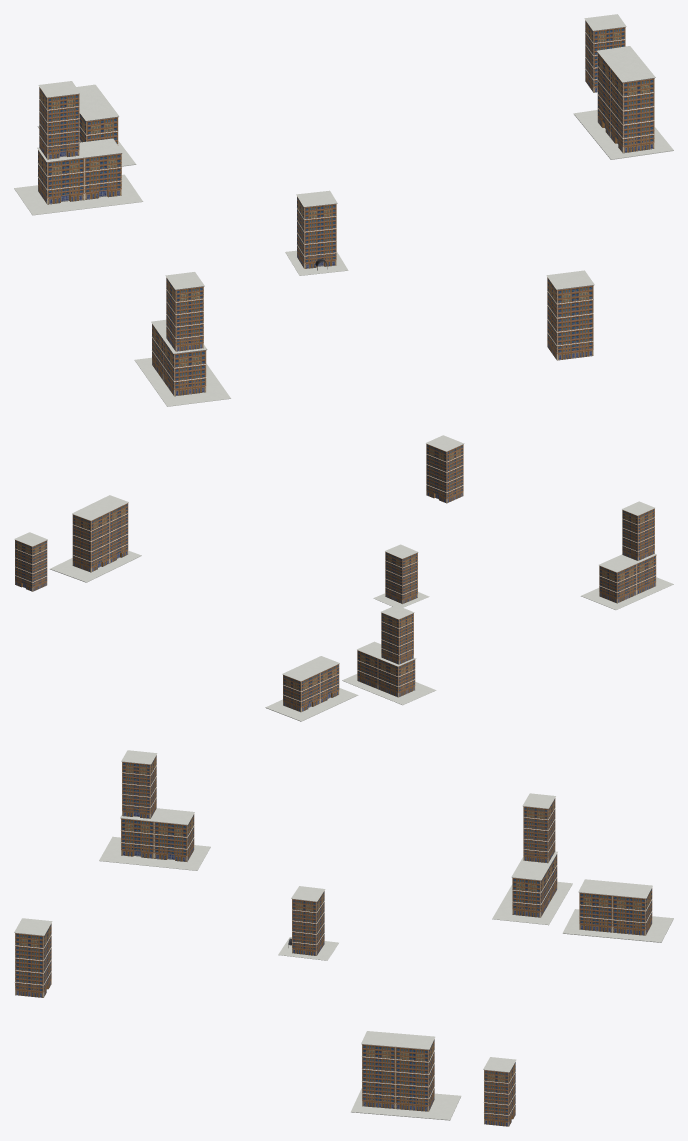
File: Singapore_track_building_city_02.dae
The picture shows the model from 3 angles, top to bottom: view 1: azimuth 30°, elevation 25°; view 2: azimuth 150°, elevation 25°; view 3: azimuth 270°, elevation 25°; orthographic projection. The views are drawn at different scales.
Visible parts, largest first — view 1: building_city_02_06, building_city_02_05, building_city_02_03, building_city_02_07, building_city_02_01, building_city_02_02, building_city_02_04; view 2: building_city_02_05, building_city_02_06, building_city_02_03, building_city_02_02, building_city_02_07, building_city_02_01, building_city_02_04; view 3: building_city_02_05, building_city_02_03, building_city_02_06, building_city_02_02, building_city_02_07, building_city_02_01, building_city_02_04.
Boxes of the visible parts, bbox=[...] form: building_city_02_06: bbox=[14, 81, 143, 215]; building_city_02_05: bbox=[134, 272, 230, 406]; building_city_02_03: bbox=[573, 46, 673, 159]; building_city_02_07: bbox=[546, 270, 594, 360]; building_city_02_01: bbox=[285, 190, 348, 275]; building_city_02_02: bbox=[37, 84, 136, 166]; building_city_02_04: bbox=[584, 14, 626, 92]; building_city_02_05: bbox=[581, 501, 673, 609]; building_city_02_06: bbox=[342, 605, 436, 705]; building_city_02_03: bbox=[50, 495, 141, 582]; building_city_02_02: bbox=[265, 656, 358, 721]; building_city_02_07: bbox=[425, 435, 464, 503]; building_city_02_01: bbox=[373, 544, 429, 607]; building_city_02_04: bbox=[14, 532, 47, 591]; building_city_02_05: bbox=[99, 750, 210, 870]; building_city_02_03: bbox=[351, 1031, 461, 1120]; building_city_02_06: bbox=[492, 793, 572, 925]; building_city_02_02: bbox=[562, 879, 673, 942]; building_city_02_07: bbox=[14, 918, 52, 997]; building_city_02_01: bbox=[278, 886, 338, 960]; building_city_02_04: bbox=[483, 1057, 516, 1126].
Size of the model in its own units: 113 by 109 by 17.13.
2 materials, 2 textured.
